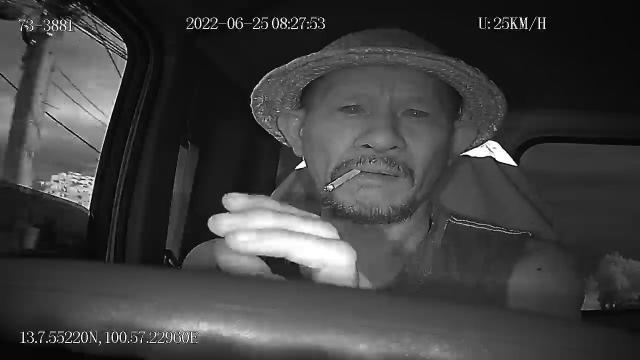SafeDriving: (392, 96, 438, 127), (332, 94, 372, 120)
Smoking: (326, 165, 360, 193)
